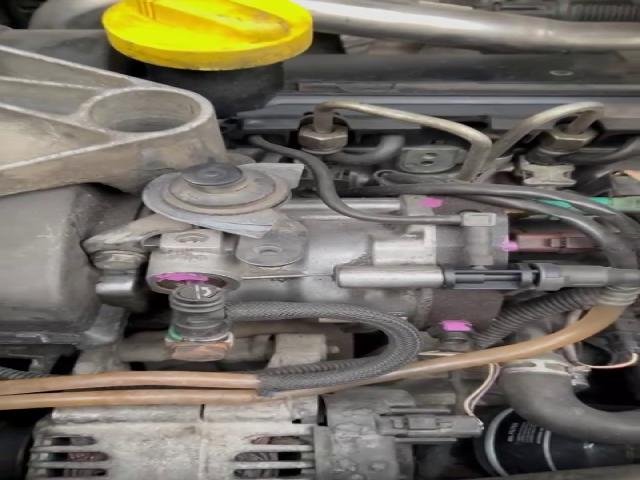alternator: (28, 398, 318, 480)
high_pressure_pump: (143, 194, 638, 349)
